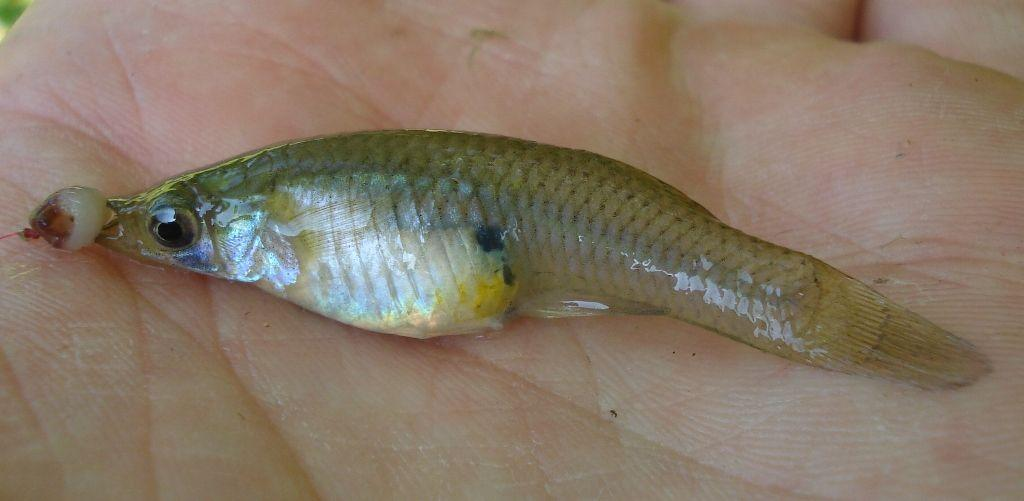Mosquito Fish: (99, 119, 990, 403)
